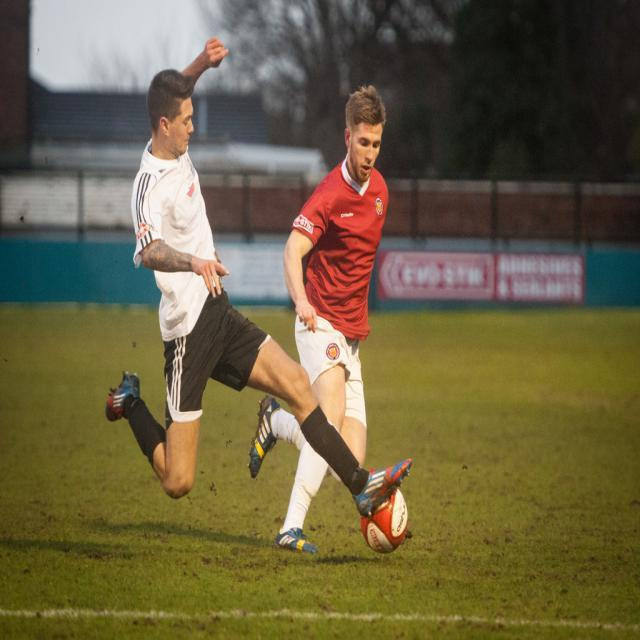football: (349, 480, 429, 556)
